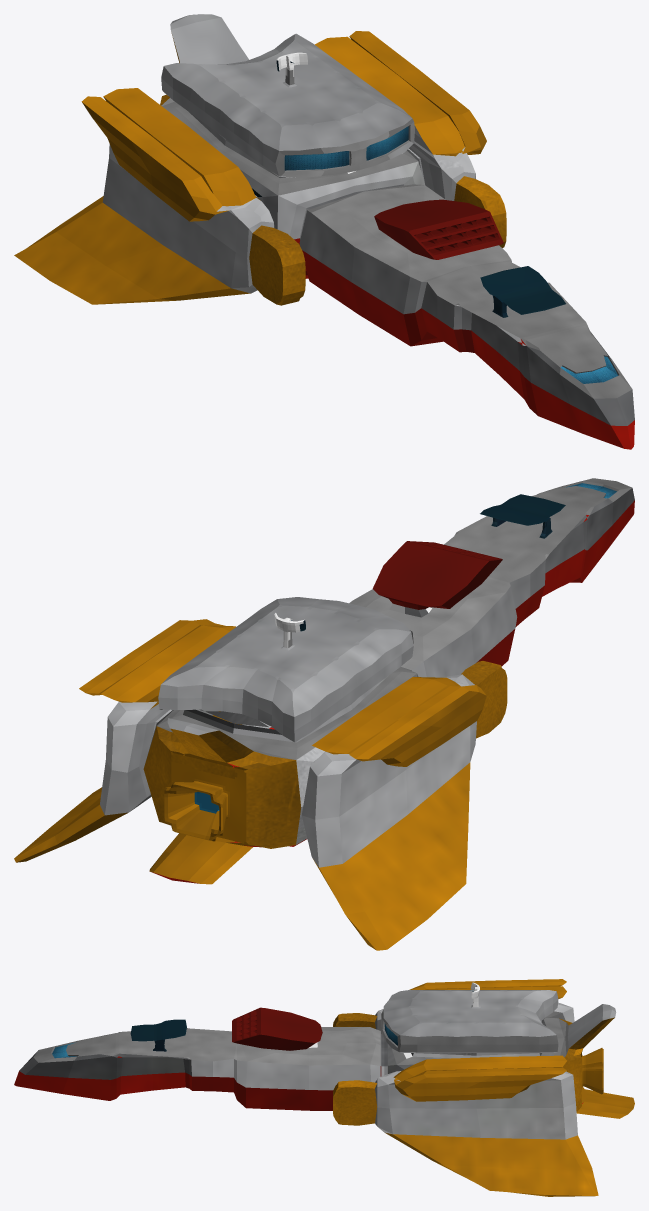
Rendered from hanz0z_space_fighter_ship.glb.
The picture shows the model from 3 angles, top to bottom: view 1: azimuth 30°, elevation 25°; view 2: azimuth 150°, elevation 25°; view 3: azimuth 270°, elevation 25°; orthographic projection. The views are drawn at different scales.
Visible parts, largest first — view 1: Object_2; view 2: Object_2; view 3: Object_2.
Boxes of the visible parts, left/top/right/bottom form: Object_2: left=14, top=14, right=634, bottom=449; Object_2: left=14, top=478, right=634, bottom=950; Object_2: left=14, top=979, right=634, bottom=1196.
Bounding box in the file's own units: 17.76 × 9.98 × 37.65.
Materials: 1 (1 with a texture image).
